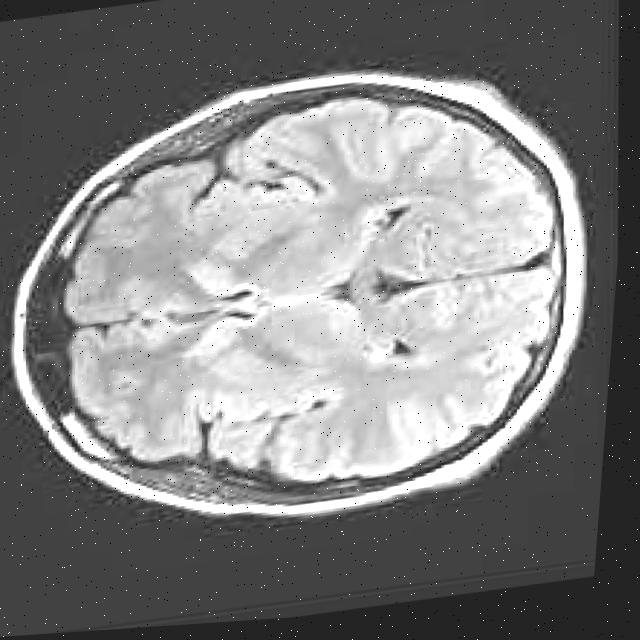NoTumor: (0, 31, 619, 572)
